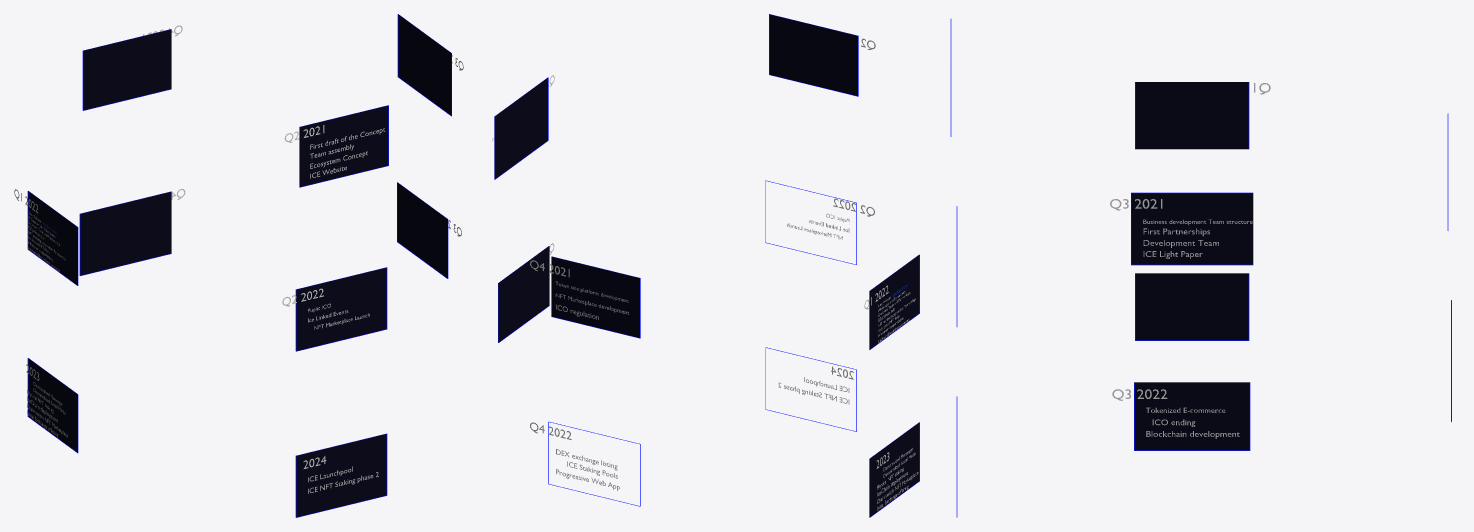
The model's file is cubeModel.glb.
The picture shows the model from 3 angles, left to right: view 1: azimuth 30°, elevation 25°; view 2: azimuth 150°, elevation 25°; view 3: azimuth 270°, elevation 25°; orthographic projection. The views are drawn at different scales.
Parts seen in each view (by area): view 1: Plane.006, Plane.008, Plane.004, Plane, Plane.002, Plane.001, Plane.005, Plane.003, Plane.007; view 2: Plane, Plane.002, Plane.001, Plane.005, Plane.007, Plane.003; view 3: Plane.001, Plane.005, Plane.007, Plane.003.
Boxes of the visible parts, box(x1,y1,x2,y2) form: Plane.006: box(79, 191, 171, 275); Plane.008: box(295, 433, 387, 517); Plane.004: box(295, 267, 387, 351); Plane: box(299, 105, 388, 187); Plane.002: box(82, 29, 171, 110); Plane.001: box(397, 14, 451, 116); Plane.005: box(397, 182, 448, 278); Plane.003: box(27, 191, 78, 285); Plane.007: box(27, 358, 78, 453); Plane: box(769, 14, 858, 96); Plane.002: box(551, 256, 640, 338); Plane.001: box(494, 77, 548, 179); Plane.005: box(498, 246, 549, 342); Plane.007: box(869, 422, 919, 517); Plane.003: box(869, 254, 919, 349); Plane.001: box(1131, 192, 1253, 265); Plane.005: box(1134, 382, 1250, 450); Plane.007: box(1135, 273, 1249, 340); Plane.003: box(1135, 82, 1249, 149).
Bounding box in the file's own units: 4.81 × 4.76 × 4.91.
